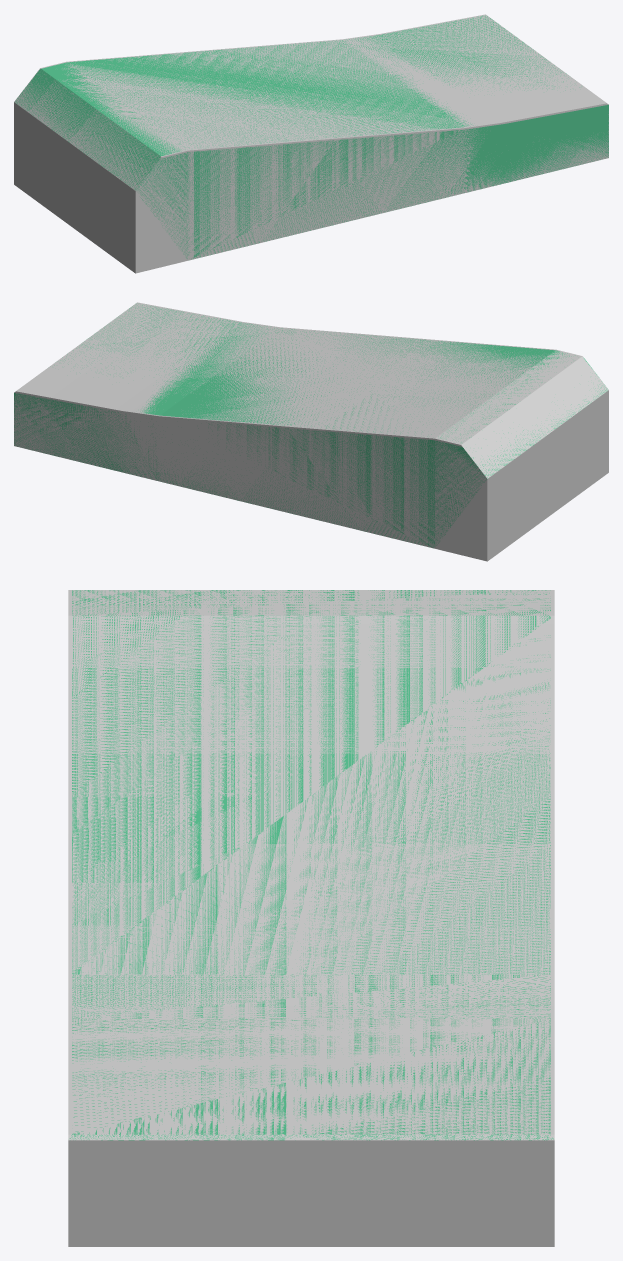
The model's file is gm_ramp_03.dae.
3 views of the same model, one above another, from view 1: azimuth 30°, elevation 25°; view 2: azimuth 150°, elevation 25°; view 3: azimuth 270°, elevation 25° (orthographic). The views are drawn at different scales.
Parts seen in each view (by area): view 1: gm_ramp_a100, Colmesh-1; view 2: gm_ramp_a100, Colmesh-1; view 3: gm_ramp_a100, Colmesh-1.
Part boxes in pixels (x1,y1,x2,y2): gm_ramp_a100: [14, 14, 608, 273]; Colmesh-1: [15, 15, 608, 259]; gm_ramp_a100: [14, 302, 608, 561]; Colmesh-1: [14, 304, 607, 548]; gm_ramp_a100: [68, 590, 554, 1246]; Colmesh-1: [69, 590, 553, 1140].
Bounding box in the file's own units: 9 × 4 × 2.
